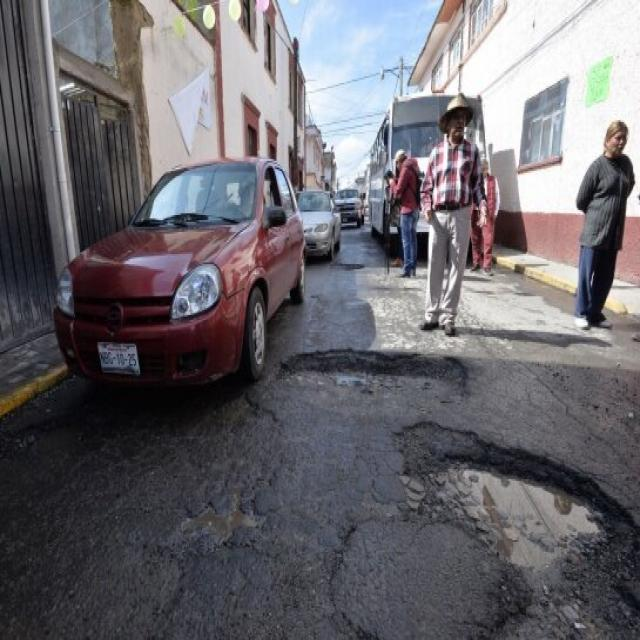Pothole: (370, 401, 640, 630), (270, 332, 486, 403), (324, 259, 384, 305)
